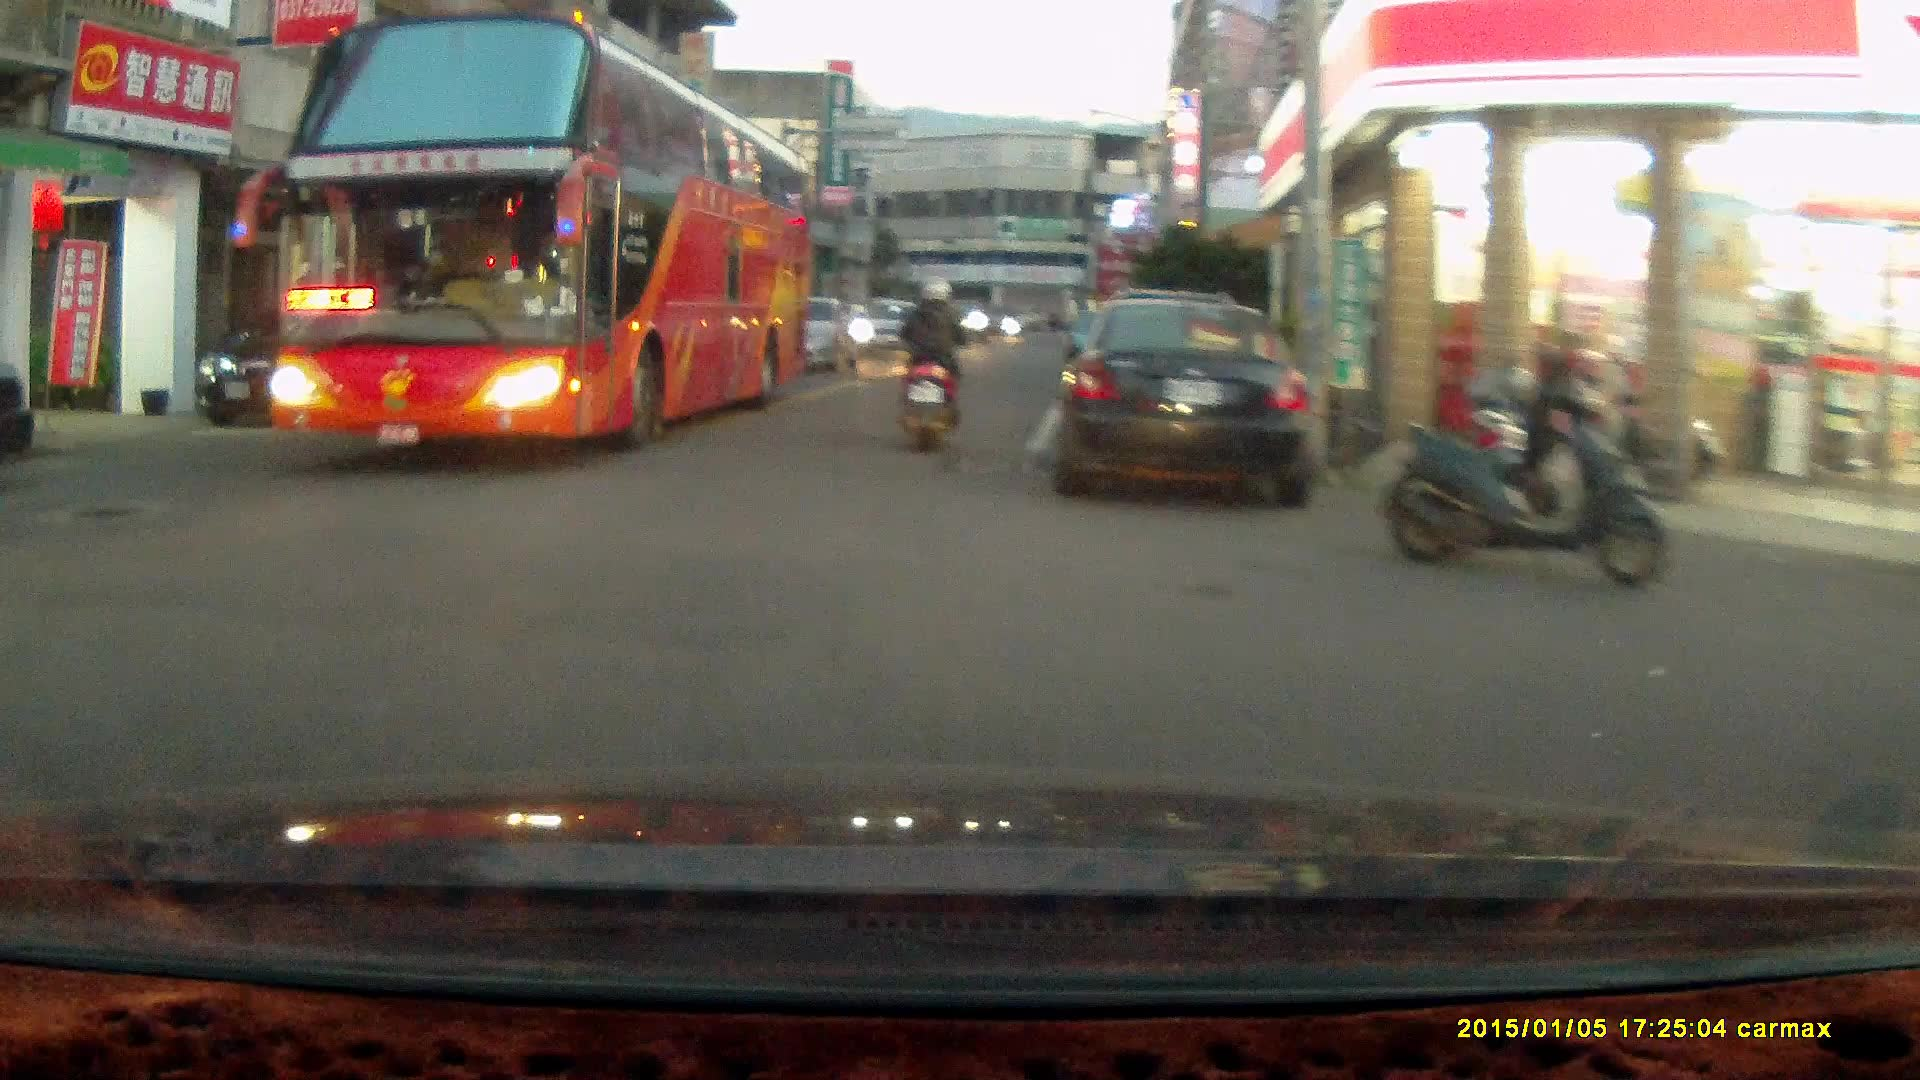rider: (886, 274, 965, 454)
vehicle: (256, 15, 818, 454), (1040, 289, 1320, 502), (809, 295, 863, 380)
